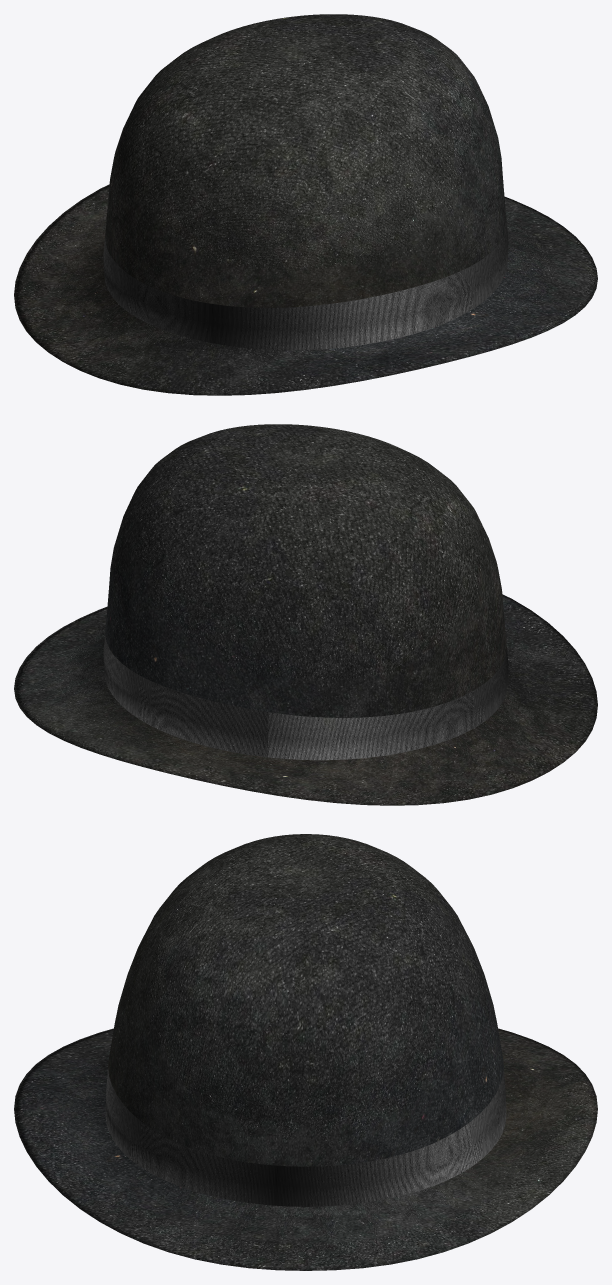
File: bowler_hat.glb
The picture shows the model from 3 angles, top to bottom: view 1: azimuth 30°, elevation 25°; view 2: azimuth 150°, elevation 25°; view 3: azimuth 270°, elevation 25°; orthographic projection. The views are drawn at different scales.
Parts seen in each view (by area): view 1: Hat; view 2: Hat; view 3: Hat.
Boxes of the visible parts, left/top/right/bottom form: Hat: left=14, top=14, right=597, bottom=395; Hat: left=14, top=424, right=597, bottom=805; Hat: left=14, top=834, right=597, bottom=1270.
Size of the model in its own units: 3.08 by 1.39 by 2.84.
Materials: 3 (3 with a texture image).
